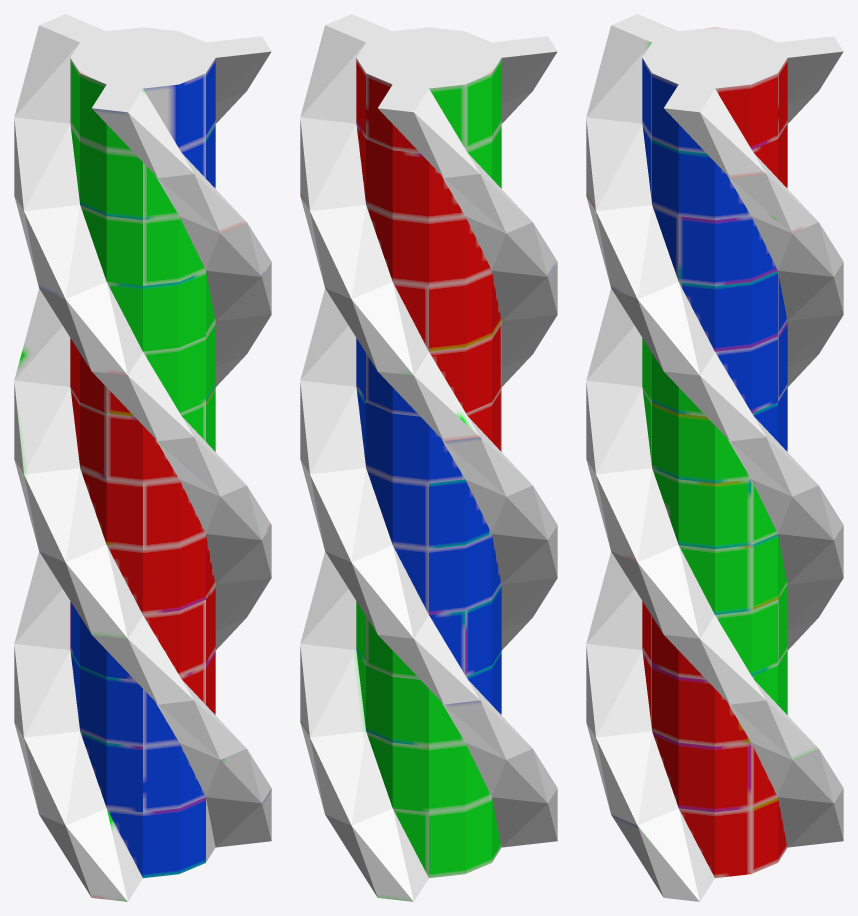
Rendered from windmill.obj.
3 views of the same model, side by side, from view 1: azimuth 30°, elevation 25°; view 2: azimuth 150°, elevation 25°; view 3: azimuth 270°, elevation 25° (orthographic).
Visible parts, largest first — view 1: windmill; view 2: windmill; view 3: windmill.
Part boxes in pixels (x1,y1,x2,y2): windmill: (14, 14, 271, 901); windmill: (300, 14, 557, 901); windmill: (586, 14, 843, 901).
Size of the model in its own units: 0.8864 by 3 by 0.8864.
